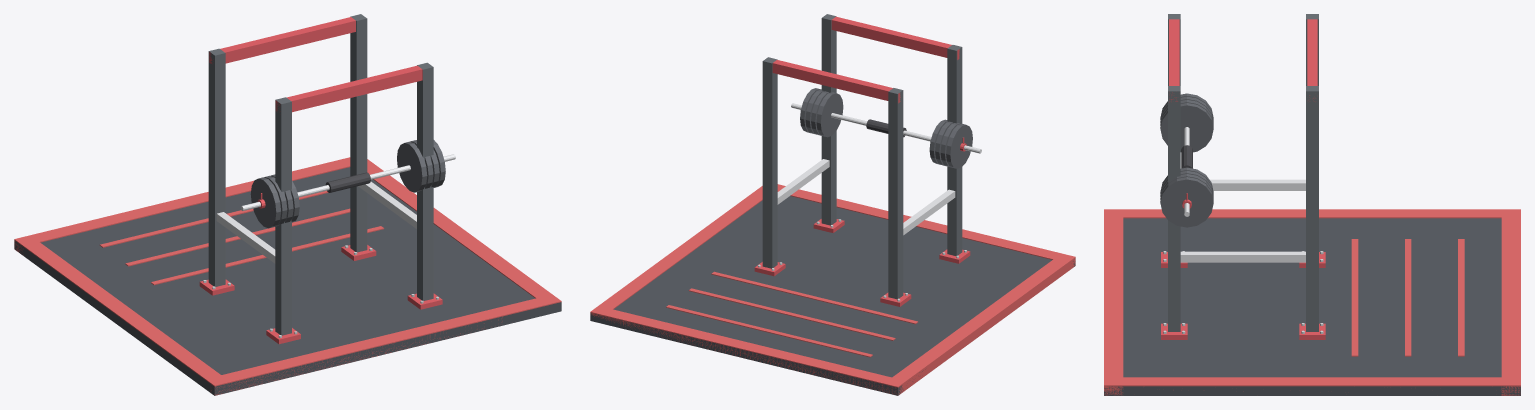
File: Table4_SquatRack.fbx
3 views of the same model, side by side, from view 1: azimuth 30°, elevation 25°; view 2: azimuth 150°, elevation 25°; view 3: azimuth 270°, elevation 25° (orthographic). The views are drawn at different scales.
Visible parts, largest first — view 1: Table4, Cube.057, Table4_RimNS_-1, Cube.061, Cube.055, Cube.059, Table4_RimEW_-1, Table4_RimNS_1, Table4_RimEW_1, Cube.063, Cube.064, Cylinder.139 (+8 smaller); view 2: Table4, Table4_RimNS_1, Table4_RimEW_-1, Cube.057, Cube.061, Cube.055, Table4_RimEW_1, Cube.059, Table4_RimNS_-1, Cube.063, Cube.064, Cylinder.139 (+7 smaller); view 3: Table4, Table4_RimEW_1, Table4_RimNS_-1, Table4_RimNS_1, Cube.061, Table4_RimEW_-1, Cube.059, Cylinder.142, Cube.066, Cylinder.133, Cube.065, Cube.073 (+4 smaller).
Part boxes in pixels (bbox=[...]): Table4: bbox=[14, 167, 561, 395]; Cube.057: bbox=[208, 48, 225, 286]; Table4_RimNS_-1: bbox=[205, 294, 561, 395]; Cube.061: bbox=[350, 14, 367, 252]; Cube.055: bbox=[275, 97, 291, 335]; Cube.059: bbox=[417, 62, 433, 300]; Table4_RimEW_-1: bbox=[23, 242, 220, 379]; Table4_RimNS_1: bbox=[14, 157, 369, 255]; Table4_RimEW_1: bbox=[367, 161, 551, 298]; Cube.063: bbox=[275, 65, 422, 112]; Cube.064: bbox=[209, 17, 355, 63]; Cylinder.139: bbox=[397, 141, 427, 192]; Table4: bbox=[590, 196, 1075, 395]; Table4_RimNS_1: bbox=[590, 306, 906, 395]; Table4_RimEW_-1: bbox=[892, 259, 1067, 389]; Cube.057: bbox=[888, 88, 903, 299]; Cube.061: bbox=[762, 57, 777, 268]; Cube.055: bbox=[947, 45, 962, 255]; Table4_RimEW_1: bbox=[598, 188, 762, 309]; Cube.059: bbox=[821, 14, 836, 225]; Table4_RimNS_-1: bbox=[760, 184, 1075, 271]; Cube.063: bbox=[831, 16, 959, 59]; Cube.064: bbox=[772, 60, 900, 103]; Cylinder.139: bbox=[816, 92, 843, 137]; Table4: bbox=[1104, 218, 1520, 395]; Table4_RimEW_1: bbox=[1123, 377, 1501, 391]; Table4_RimNS_-1: bbox=[1104, 209, 1123, 395]; Table4_RimNS_1: bbox=[1501, 209, 1520, 395]; Cube.061: bbox=[1306, 86, 1318, 331]; Table4_RimEW_-1: bbox=[1123, 209, 1501, 218]; Cube.059: bbox=[1168, 86, 1180, 331]; Cylinder.142: bbox=[1160, 177, 1213, 227]; Cube.066: bbox=[1180, 251, 1305, 262]; Cylinder.133: bbox=[1160, 103, 1213, 152]; Cube.065: bbox=[1210, 179, 1305, 190]; Cube.073: bbox=[1351, 239, 1358, 356].
Bounding box in the file's own units: 3.92 × 3.92 × 2.65.
